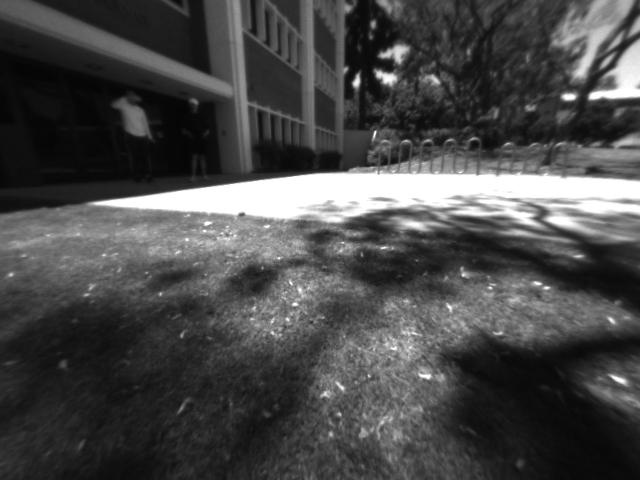dogtoy: (228, 204, 255, 223)
